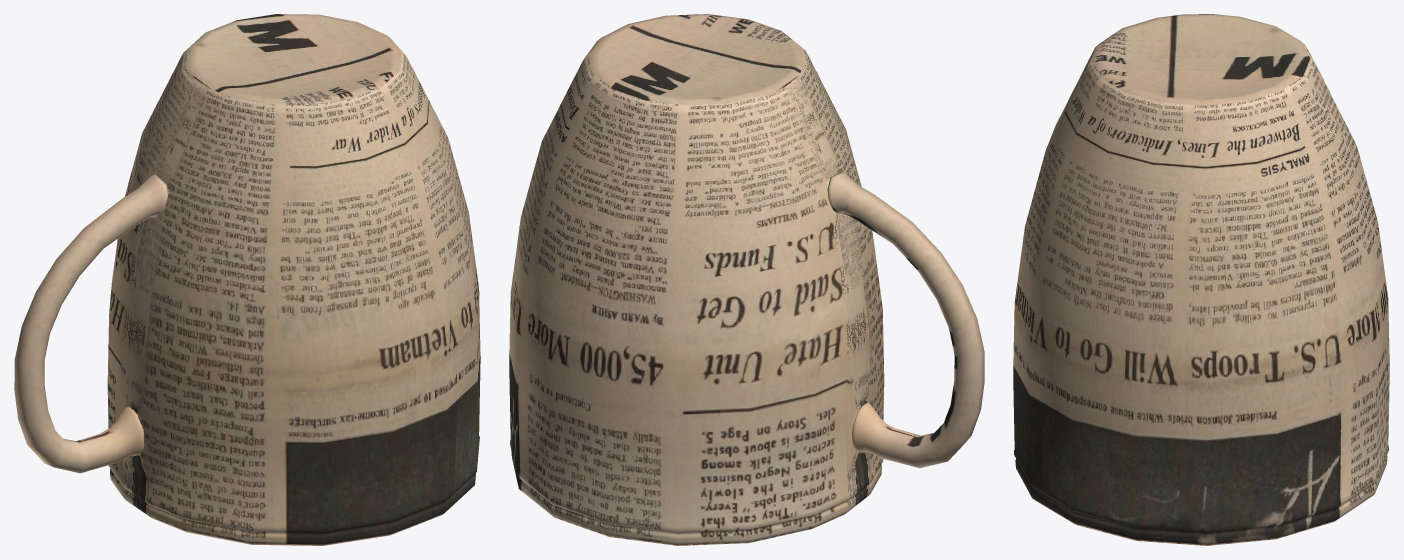
The model's file is mug-newspaper.obj.
3 renders of one model, left to right at view 1: azimuth 30°, elevation 25°; view 2: azimuth 150°, elevation 25°; view 3: azimuth 270°, elevation 25°, orthographic.
Parts seen in each view (by area): view 1: crockery_cup_mesh; view 2: crockery_cup_mesh; view 3: crockery_cup_mesh.
Part boxes in pixels (bbox=[...]): crockery_cup_mesh: bbox=[14, 14, 480, 545]; crockery_cup_mesh: bbox=[509, 14, 984, 545]; crockery_cup_mesh: bbox=[1013, 14, 1389, 545].
Size of the model in its own units: 11.29 by 9.99 by 8.3.
1 material, 1 textured.
